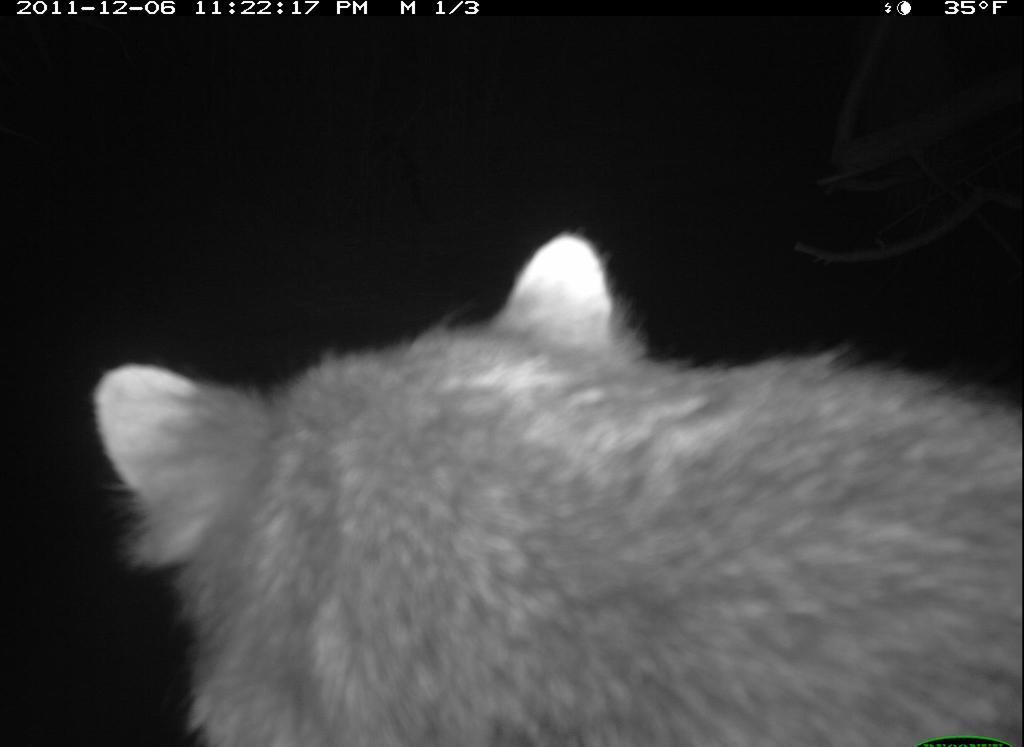raccoon: (86, 228, 1023, 747)
